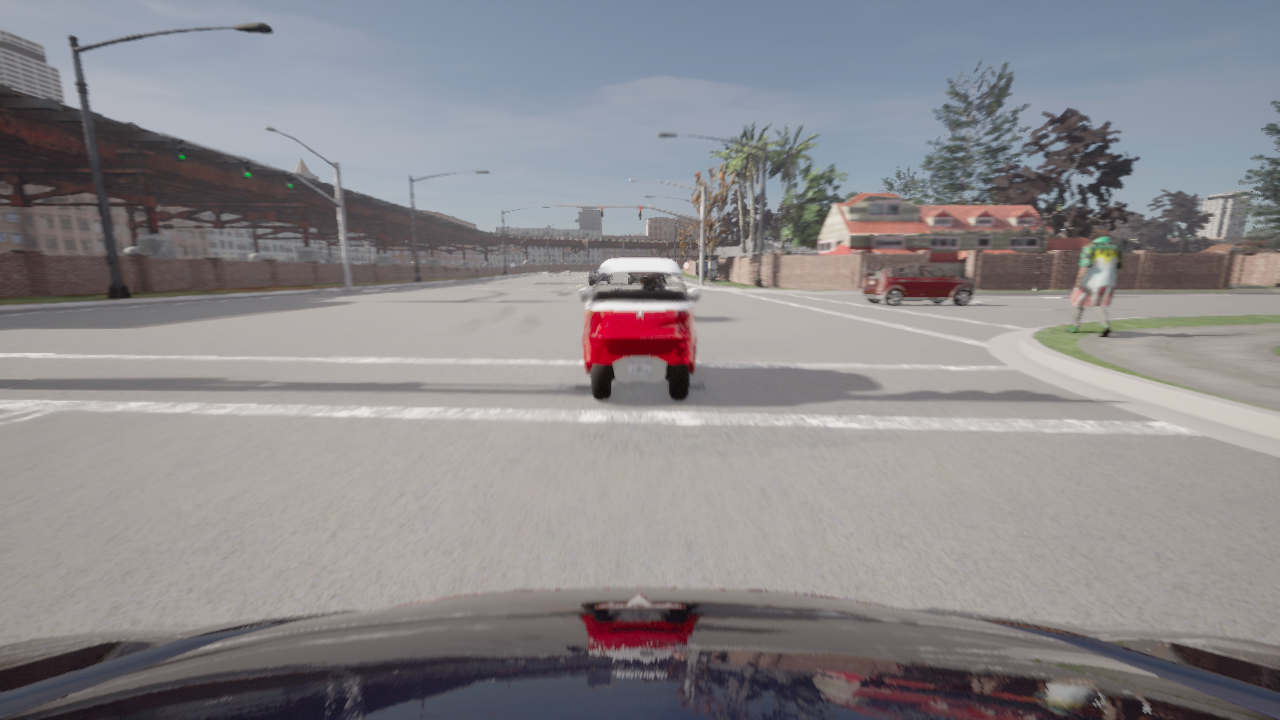cyclist: (0, 588, 1279, 719), (578, 258, 699, 400), (861, 264, 972, 306), (589, 268, 600, 284)
pedestrian: (1064, 228, 1122, 337)
